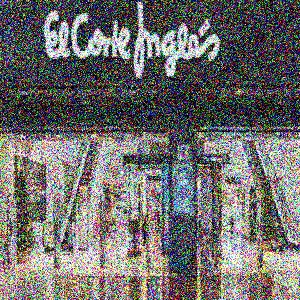corte_ingles: (206, 0, 244, 3)
